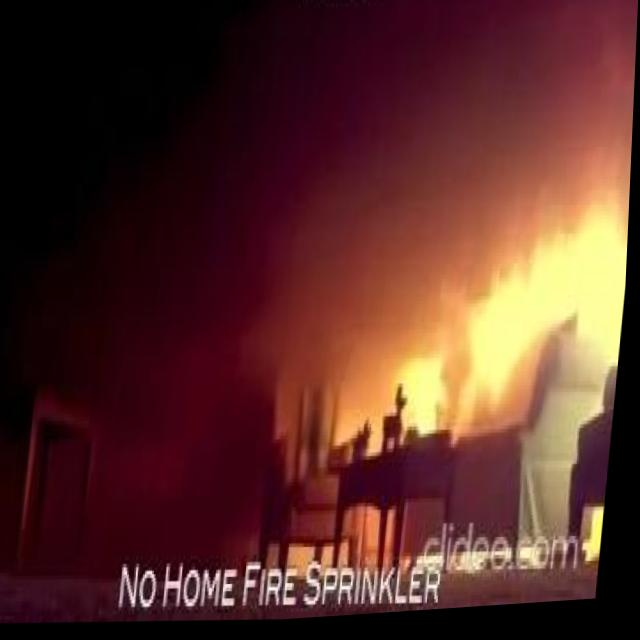fire: (462, 204, 632, 369), (460, 246, 546, 426), (405, 355, 457, 438)
